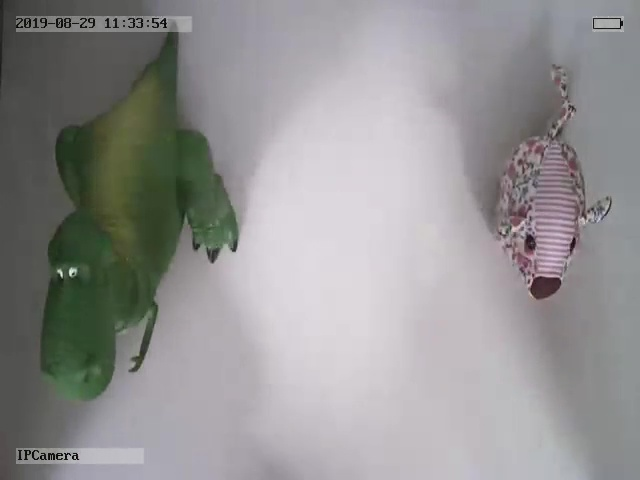pig: (491, 62, 611, 300)
rex: (38, 33, 239, 403)
